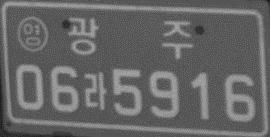0: (14, 63, 44, 111)
1: (186, 71, 218, 119)
5: (111, 68, 142, 117)
6: (224, 73, 255, 122), (49, 66, 81, 113)
9: (148, 70, 181, 119)
광주_D: (66, 17, 193, 60)
라: (83, 72, 107, 110)
영: (15, 17, 49, 53)
